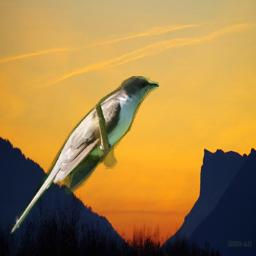Cuckoo: (8, 76, 159, 236)
